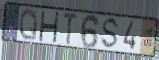4: (122, 20, 138, 51)
6: (80, 12, 101, 50)
H: (37, 9, 60, 44)
Q: (18, 7, 39, 42)
S: (100, 17, 121, 50)
T: (62, 11, 78, 46)
